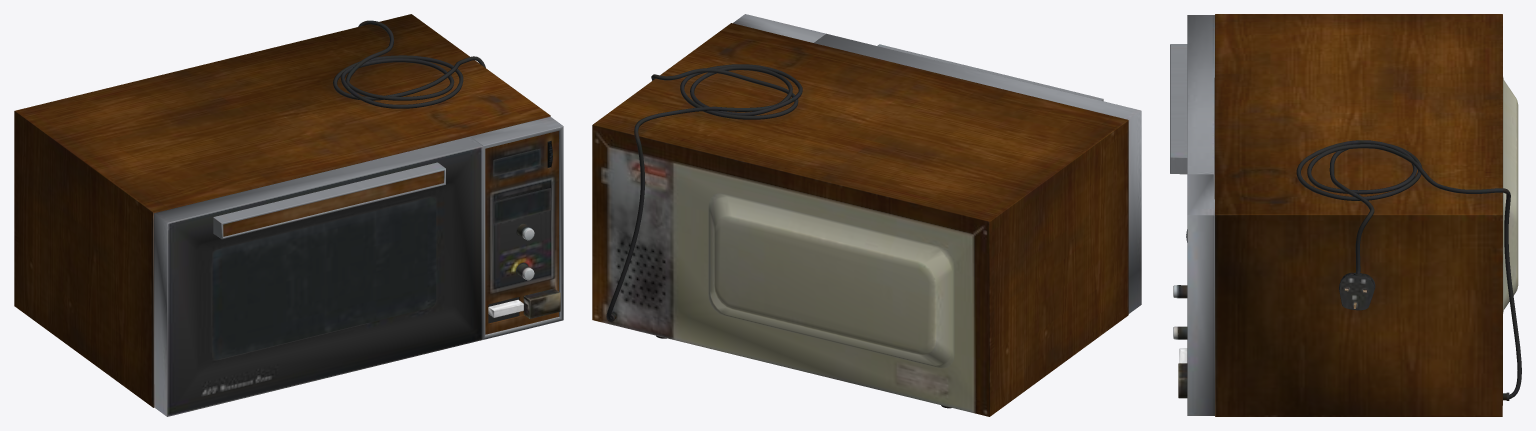
Rendered from vintage_microwave.glb.
The picture shows the model from 3 angles, left to right: view 1: azimuth 30°, elevation 25°; view 2: azimuth 150°, elevation 25°; view 3: azimuth 270°, elevation 25°; orthographic projection. The views are drawn at different scales.
Parts seen in each view (by area): view 1: vintage_microwave; view 2: vintage_microwave; view 3: vintage_microwave.
Boxes of the visible parts, x1=… form: vintage_microwave: x1=14, y1=14, x2=563, y2=416; vintage_microwave: x1=592, y1=14, x2=1141, y2=416; vintage_microwave: x1=1170, y1=14, x2=1521, y2=416.
Bounding box in the file's own units: 1.07 × 0.5258 × 0.7456.
Materials: 2 (2 with a texture image).
